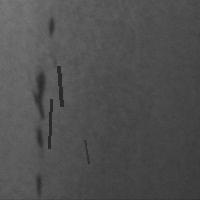inclusion: (29, 69, 50, 121), (31, 124, 47, 151), (42, 15, 59, 39), (47, 97, 53, 150), (56, 64, 63, 108), (34, 171, 45, 198), (82, 138, 90, 165)
